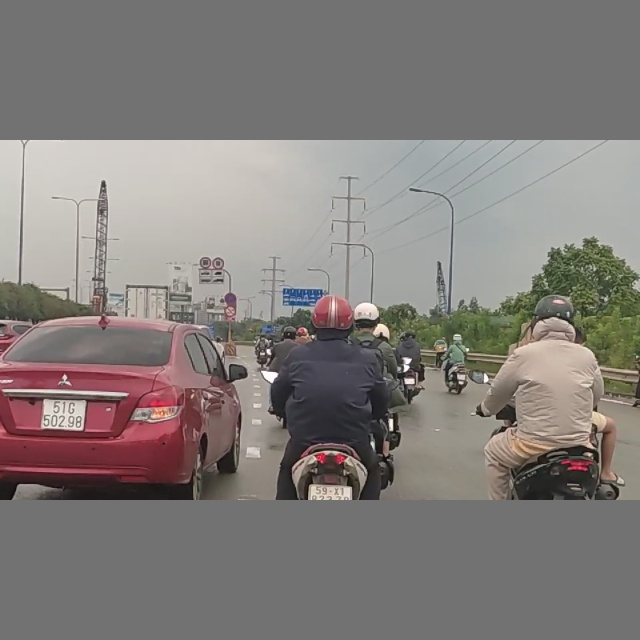P.130: (224, 293, 237, 305)
